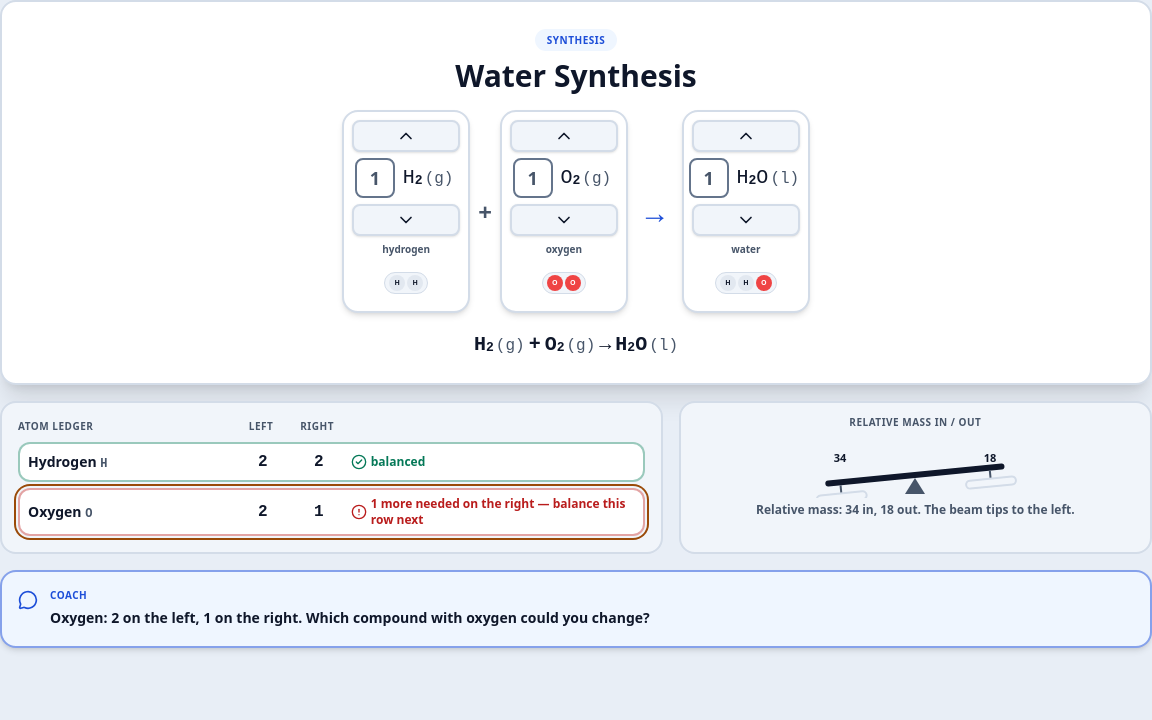
Reaction Balancer GameArena › ▲ / ▼ and typing update the ledger, clusters and equation in the same render
This screenshot has width=1152, height=720.
Click the button named "Add one water". click: (746, 136)
box: [692, 120, 800, 152]
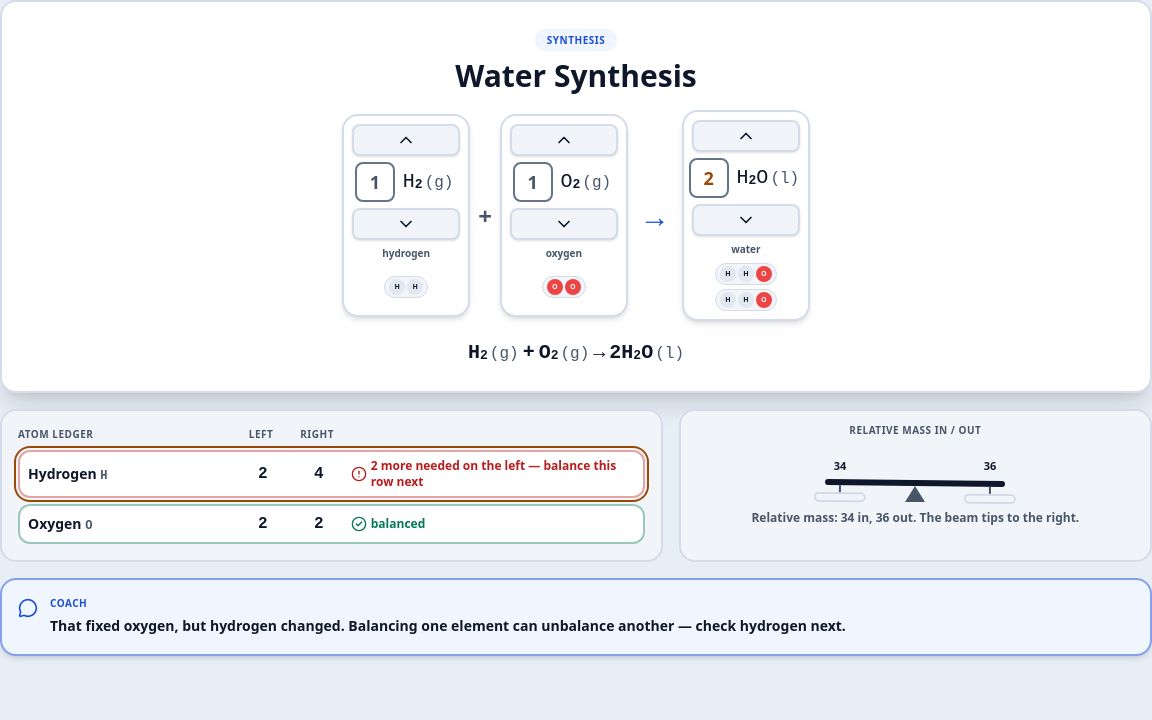
Result: the field named "Coefficient for water, H2O" holds "2" at [688, 158, 728, 198]
Result: the element with test id "equation-text" reads "H 2 (g) + O 2 (g) → 2 H 2 O (l)" at [468, 337, 684, 367]
Click the button named "Remove one water". click: (746, 220)
box: [692, 204, 800, 236]
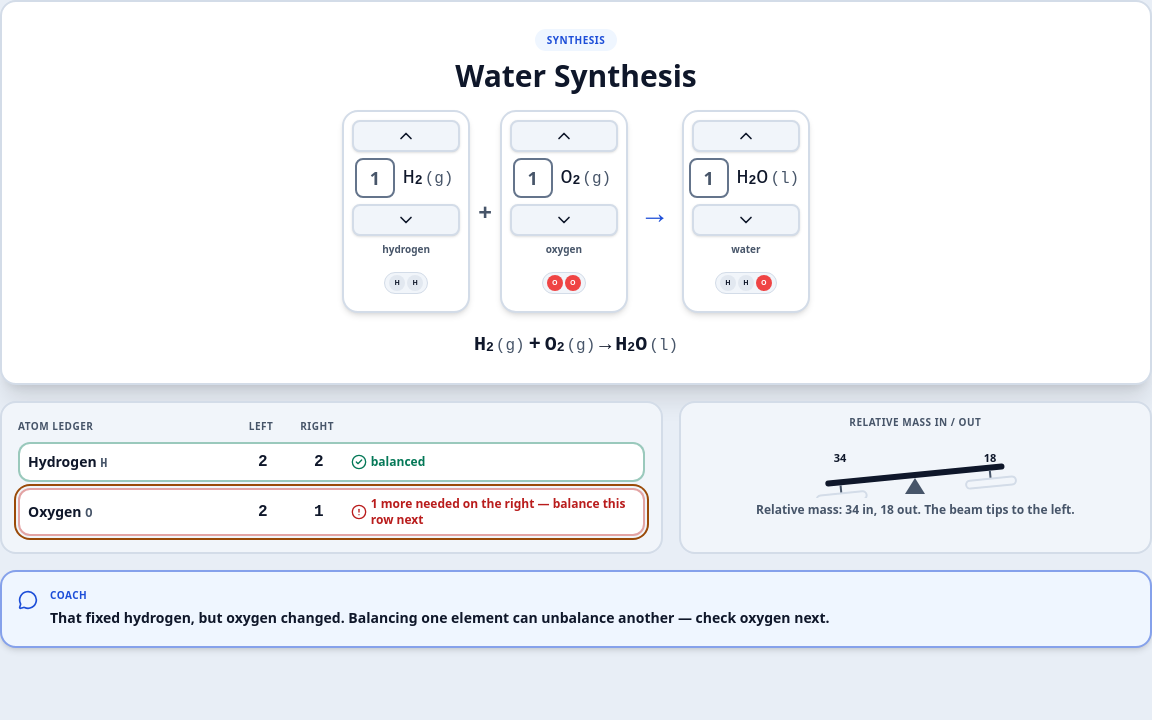
Result: the field named "Coefficient for water, H2O" is empty at [688, 158, 728, 198]
Type "2" into the 1st field with placeholder "1". click: (375, 178)
box: [355, 158, 395, 198]
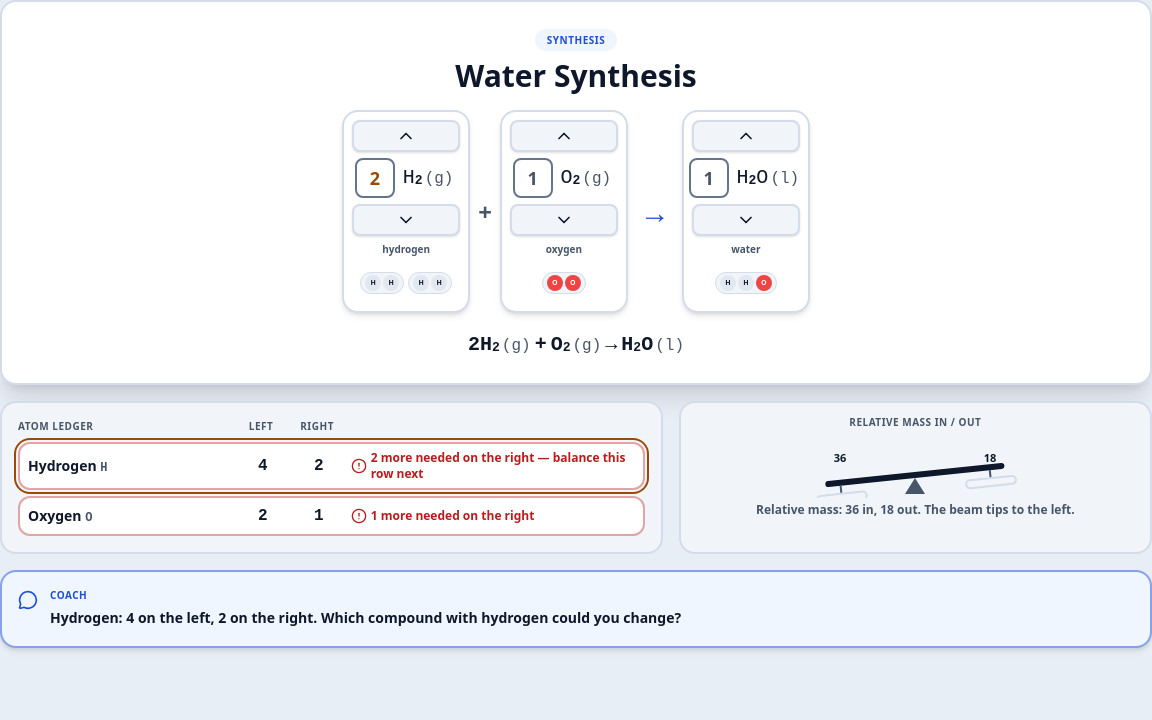
Press ArrowUp in the field named "Coefficient for water, H2O", box [688, 158, 728, 198]
(page scrolled)
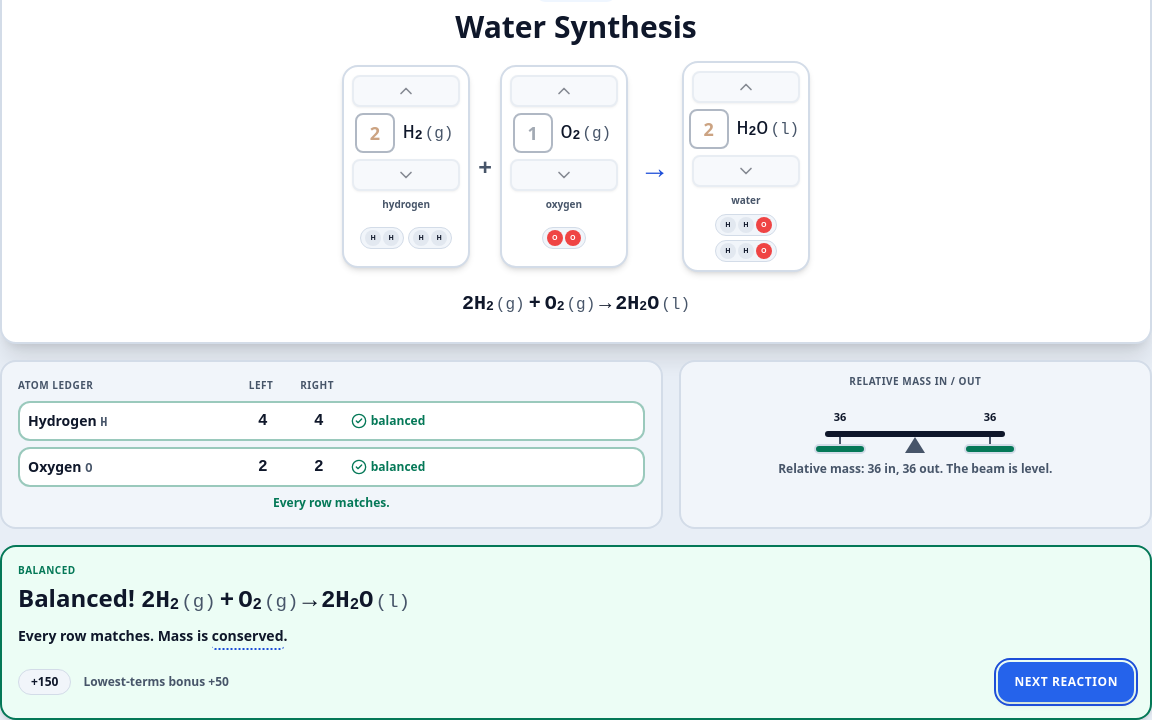
Result: the field named "Coefficient for water, H2O" holds "2" at [688, 109, 728, 149]
Result: the element with test id "round-complete" is shown at [0, 545, 1151, 719]
